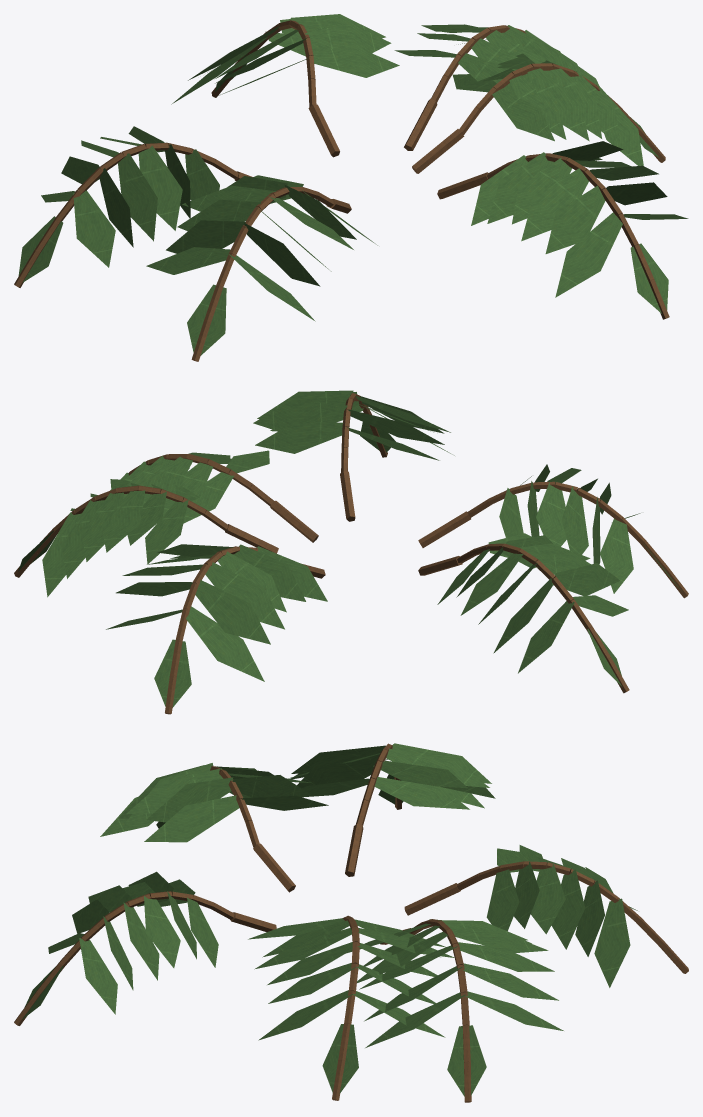
The model's file is en-008_palm_frond_ground_clutter__small.obj.
3 renders of one model, top to bottom at view 1: azimuth 30°, elevation 25°; view 2: azimuth 150°, elevation 25°; view 3: azimuth 270°, elevation 25°, orthographic. The views are drawn at different scales.
Visible parts, largest first — view 1: en-008_palm_frond_ground_clutter__small; view 2: en-008_palm_frond_ground_clutter__small; view 3: en-008_palm_frond_ground_clutter__small.
Part boxes in pixels (x1,y1,x2,y2): en-008_palm_frond_ground_clutter__small: (14, 14, 688, 361); en-008_palm_frond_ground_clutter__small: (14, 390, 688, 714); en-008_palm_frond_ground_clutter__small: (14, 743, 688, 1102).
Bounding box in the file's own units: 1.36 × 0.2524 × 1.3.
Materials: 2 (2 with a texture image).
